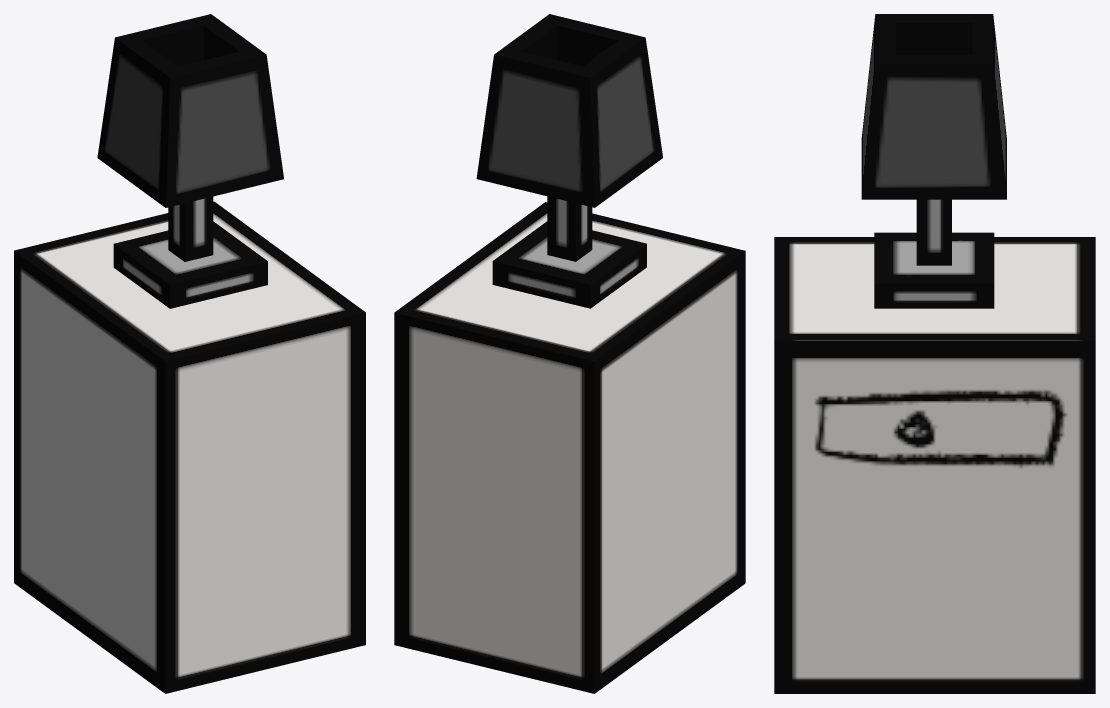
Rendered from LampDrawer.fbx.
3 views of the same model, side by side, from view 1: azimuth 30°, elevation 25°; view 2: azimuth 150°, elevation 25°; view 3: azimuth 270°, elevation 25° (orthographic). The views are drawn at different scales.
Parts seen in each view (by area): view 1: LampDrawer; view 2: LampDrawer; view 3: LampDrawer.
Part boxes in pixels (left/top/right/bottom): LampDrawer: left=14, top=14, right=365, bottom=693; LampDrawer: left=394, top=14, right=745, bottom=693; LampDrawer: left=774, top=14, right=1095, bottom=693.
Size of the model in its own units: 54.26 by 147 by 70.96.
